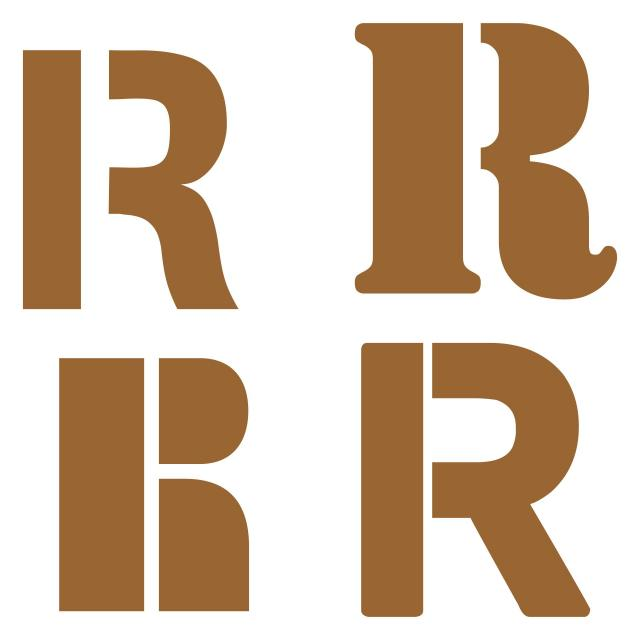R: (319, 314, 618, 624)
